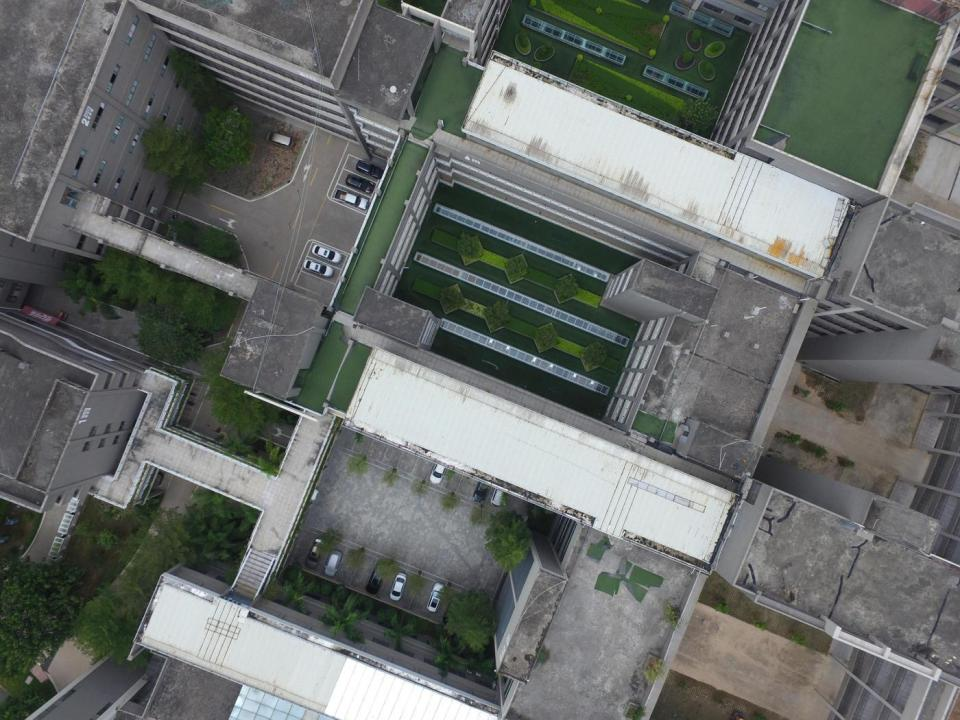car: (344, 172, 374, 195), (365, 562, 387, 593), (312, 243, 344, 264), (302, 258, 334, 278), (305, 538, 325, 570), (472, 472, 492, 504), (321, 549, 343, 578), (426, 582, 446, 613), (428, 459, 450, 485), (389, 572, 408, 602), (357, 158, 383, 179), (492, 483, 510, 508)
truck: (332, 187, 369, 211)
van: (262, 129, 296, 151)
